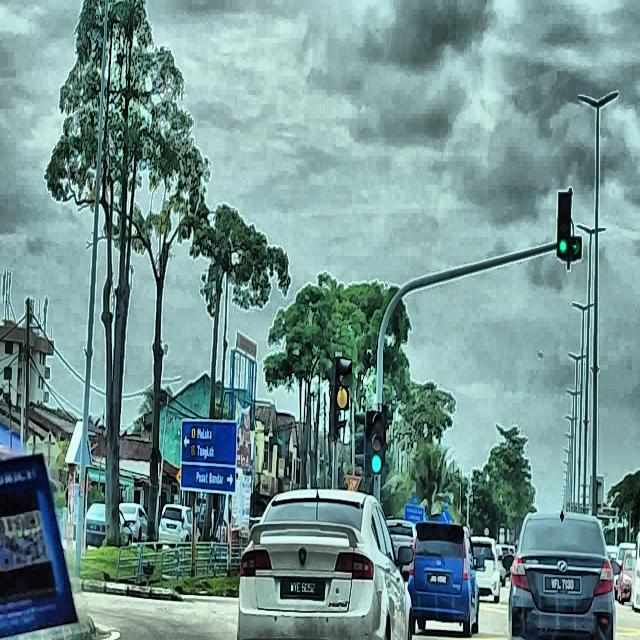green: (556, 191, 571, 258), (370, 412, 384, 474), (571, 193, 581, 258)
